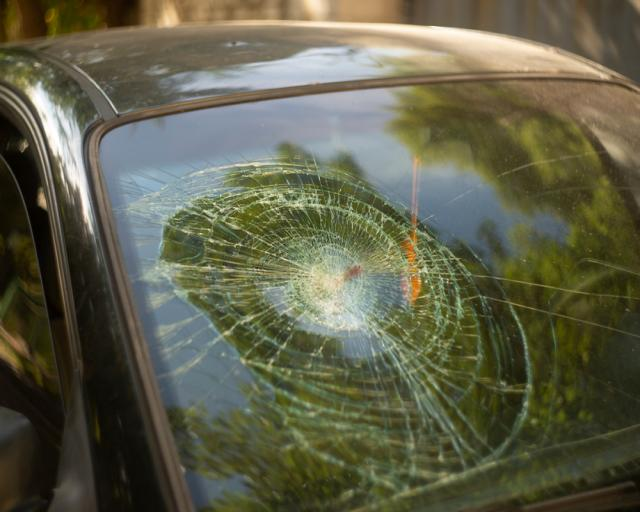glass shatter: (99, 78, 640, 512)
